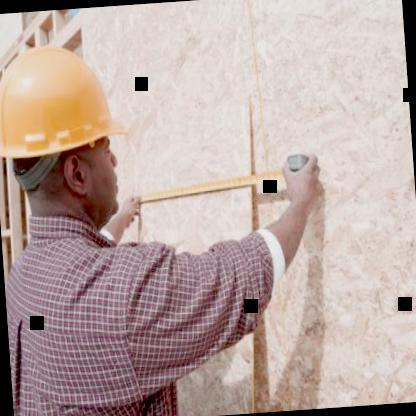helmet: (0, 17, 147, 249)
